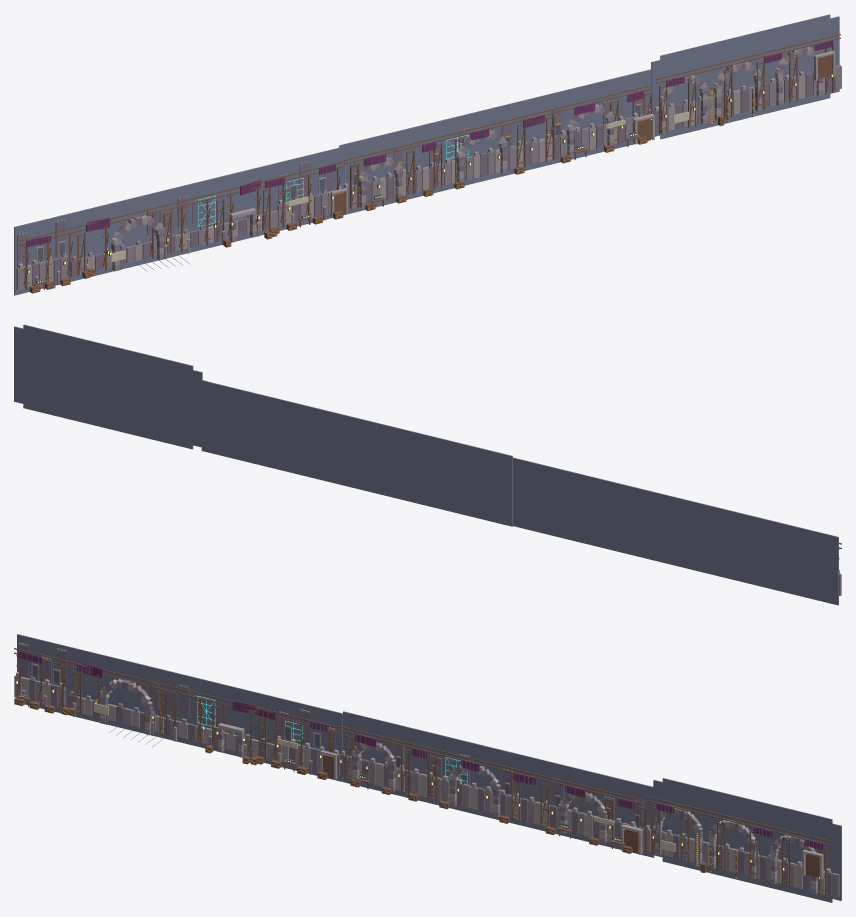
The model's file is Stage1_Backdrop_NoGate.fbx.
3 renders of one model, top to bottom at view 1: azimuth 30°, elevation 25°; view 2: azimuth 150°, elevation 25°; view 3: azimuth 330°, elevation 25°, orthographic.
Parts seen in each view (by area): view 1: BG_GearRoomBackdrop, BG_StageBacking, BG_ExtraFlat_01, BG_ExtraFlat_02, BG_ExtraFlat_00, BG_StorageBackdrop, BG_EntryBackdrop, PROP_UpperStageBeam.001, PROP_OverheadBeam.001, PROP_UpperStageBeam; view 2: BG_GearRoomBackdrop, BG_StageBacking, BG_ExtraFlat_02, BG_ExtraFlat_01, BG_ExtraFlat_00, BG_StorageBackdrop, BG_EntryBackdrop; view 3: BG_GearRoomBackdrop, BG_StageBacking, BG_ExtraFlat_01, BG_ExtraFlat_02, BG_ExtraFlat_00, BG_StorageBackdrop, BG_EntryBackdrop, PROP_UpperStageBeam.001, PROP_OverheadBeam.001, PROP_UpperStageBeam.
Boxes of the visible parts, left/top/right/bottom form: BG_GearRoomBackdrop: left=651, top=14, right=839, bottom=139; BG_StageBacking: left=61, top=163, right=277, bottom=281; BG_ExtraFlat_01: left=441, top=96, right=542, bottom=191; BG_ExtraFlat_02: left=542, top=69, right=650, bottom=166; BG_ExtraFlat_00: left=339, top=120, right=441, bottom=215; BG_StorageBackdrop: left=275, top=147, right=340, bottom=230; BG_EntryBackdrop: left=14, top=214, right=64, bottom=295; PROP_UpperStageBeam.001: left=344, top=85, right=652, bottom=160; PROP_OverheadBeam.001: left=20, top=161, right=343, bottom=241; PROP_UpperStageBeam: left=344, top=88, right=651, bottom=164; BG_GearRoomBackdrop: left=14, top=324, right=202, bottom=449; BG_StageBacking: left=574, top=472, right=790, bottom=593; BG_ExtraFlat_02: left=201, top=380, right=310, bottom=477; BG_ExtraFlat_01: left=310, top=406, right=411, bottom=501; BG_ExtraFlat_00: left=411, top=431, right=512, bottom=526; BG_StorageBackdrop: left=513, top=457, right=578, bottom=540; BG_EntryBackdrop: left=787, top=524, right=838, bottom=605; BG_GearRoomBackdrop: left=653, top=778, right=841, bottom=902; BG_StageBacking: left=64, top=646, right=281, bottom=764; BG_ExtraFlat_01: left=444, top=736, right=545, bottom=831; BG_ExtraFlat_02: left=545, top=760, right=654, bottom=857; BG_ExtraFlat_00: left=343, top=711, right=443, bottom=805; BG_StorageBackdrop: left=277, top=698, right=342, bottom=781; BG_EntryBackdrop: left=17, top=634, right=67, bottom=713; PROP_UpperStageBeam.001: left=338, top=725, right=645, bottom=801; PROP_OverheadBeam.001: left=14, top=648, right=336, bottom=727; PROP_UpperStageBeam: left=338, top=729, right=645, bottom=805.
Bounding box in the file's own units: 11400 × 512 × 1100.
